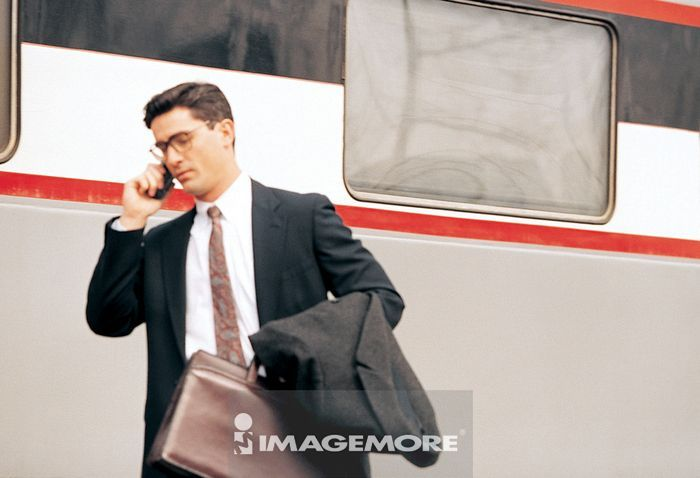talk: (120, 114, 206, 225)
